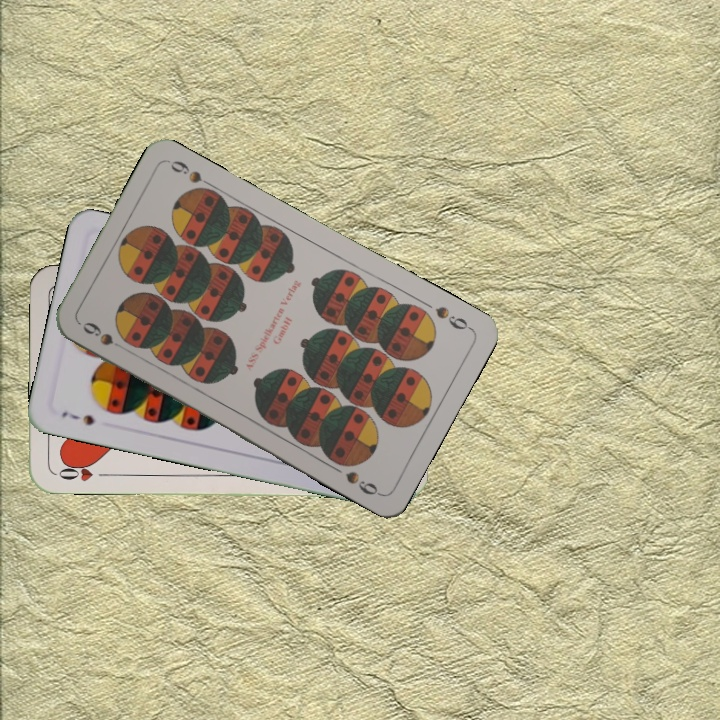HO: (52, 458, 111, 484)
S7: (57, 407, 97, 428)
S9: (78, 318, 130, 354), (431, 302, 474, 333)
